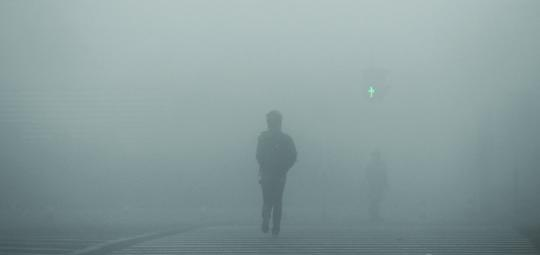person: (255, 108, 296, 237), (365, 148, 387, 221)
